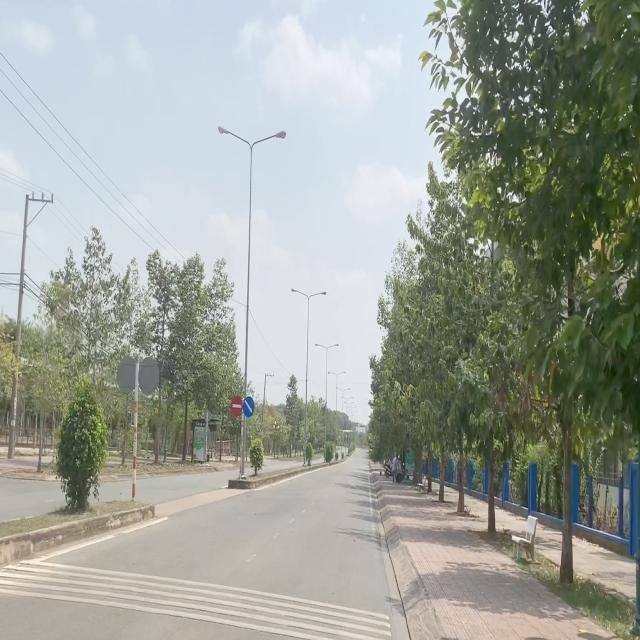Cam nguoc chieu: (231, 396, 243, 416)
Hieu lenh: (243, 396, 255, 418)
